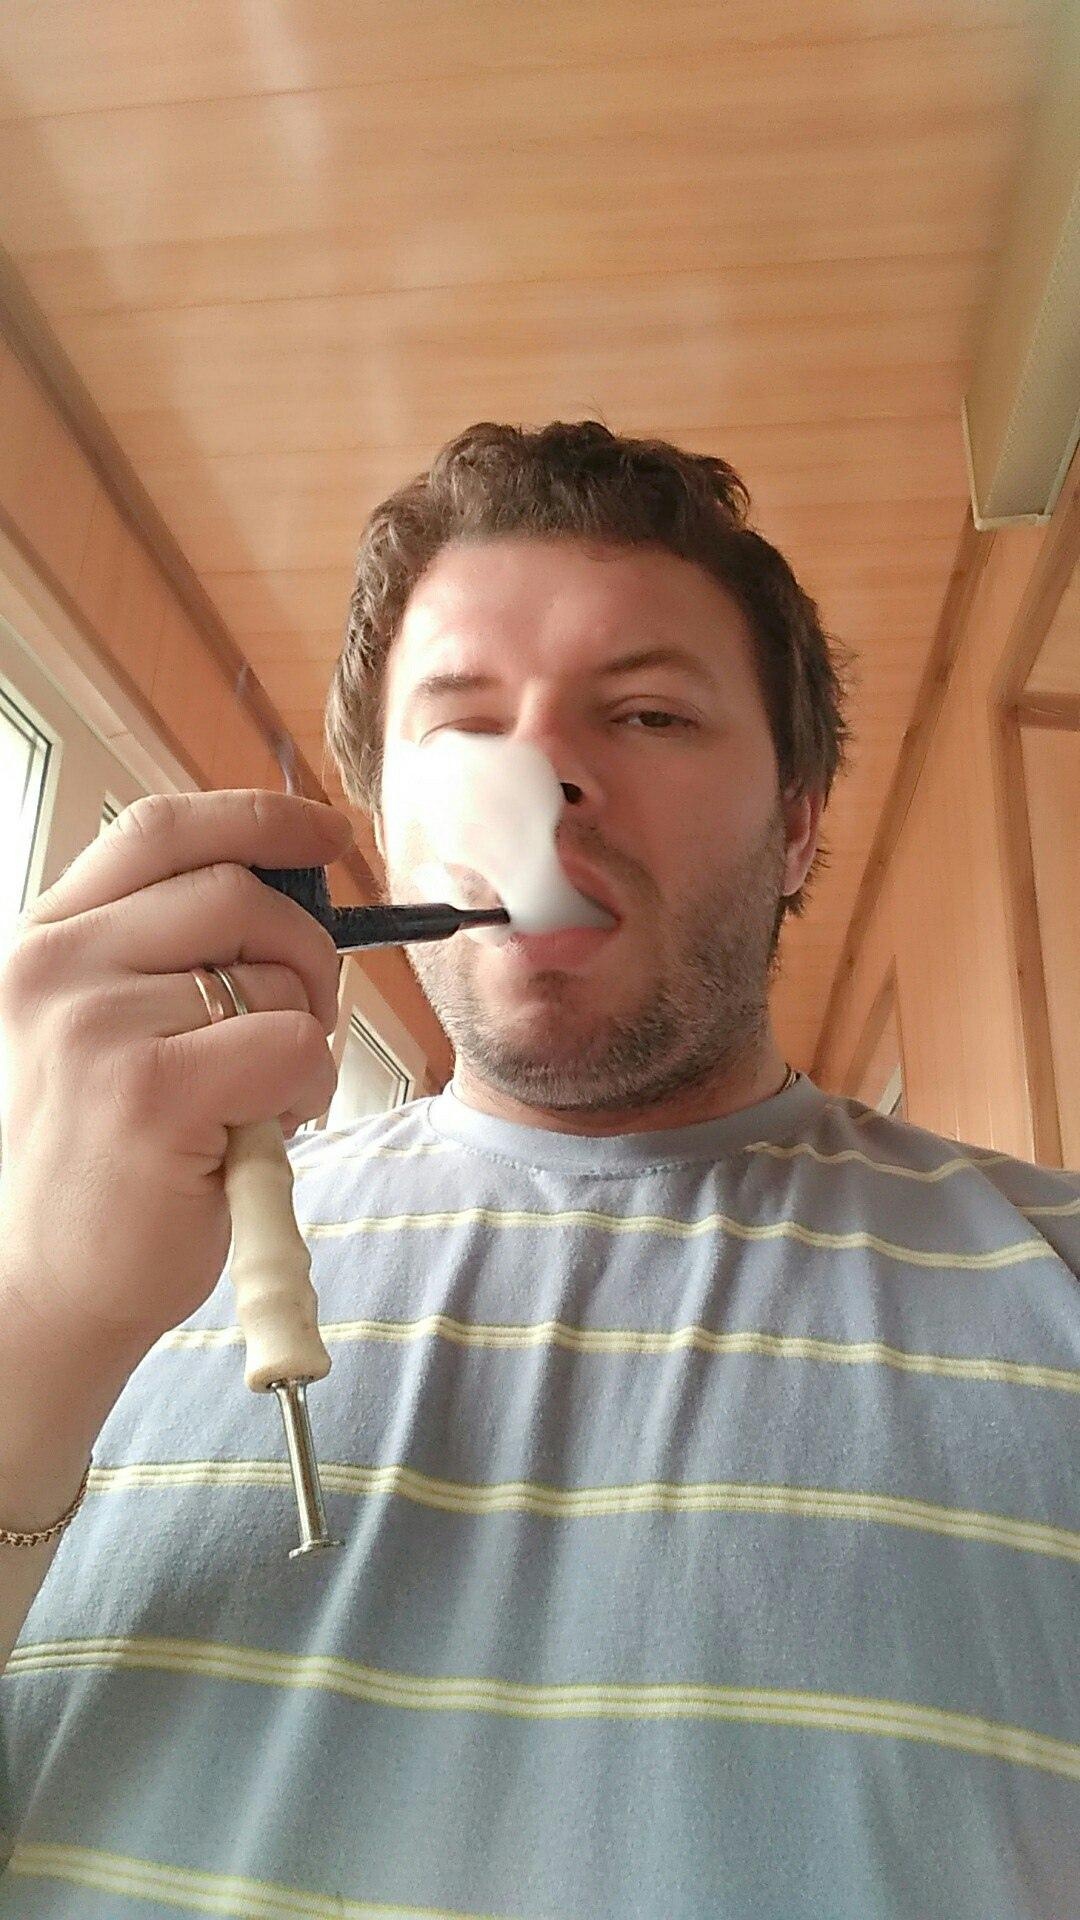trubka: (249, 865, 516, 955)
